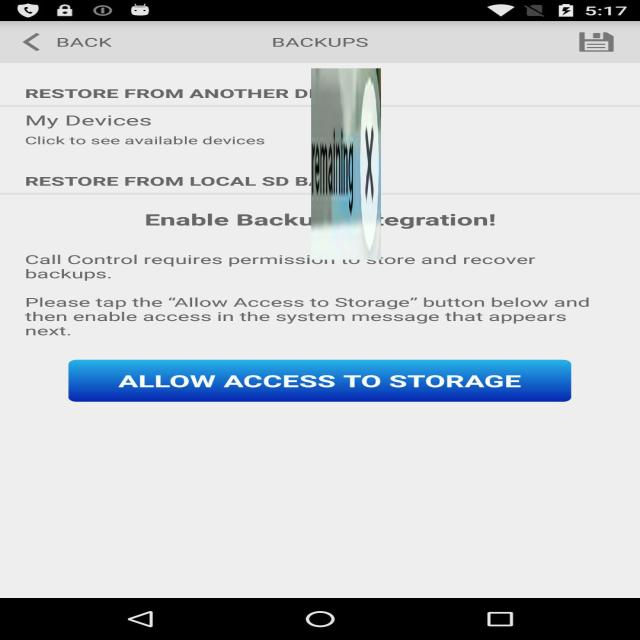misdirection: (311, 68, 381, 260)
